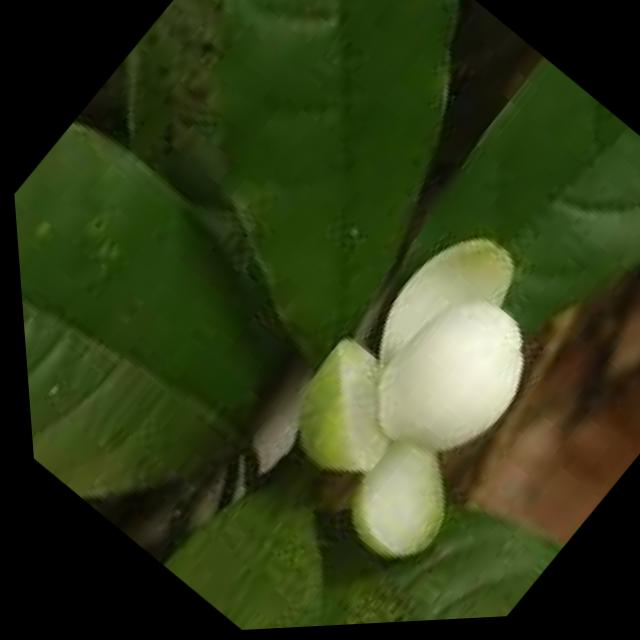Flower: (210, 199, 621, 609)
